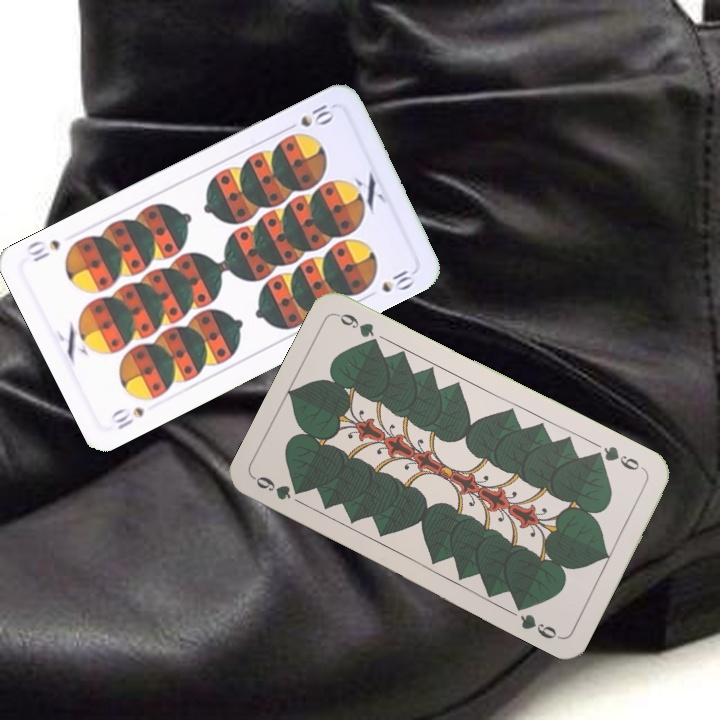G9: (589, 442, 648, 474), (250, 472, 305, 503)
S10: (281, 100, 337, 134), (106, 403, 147, 432)
